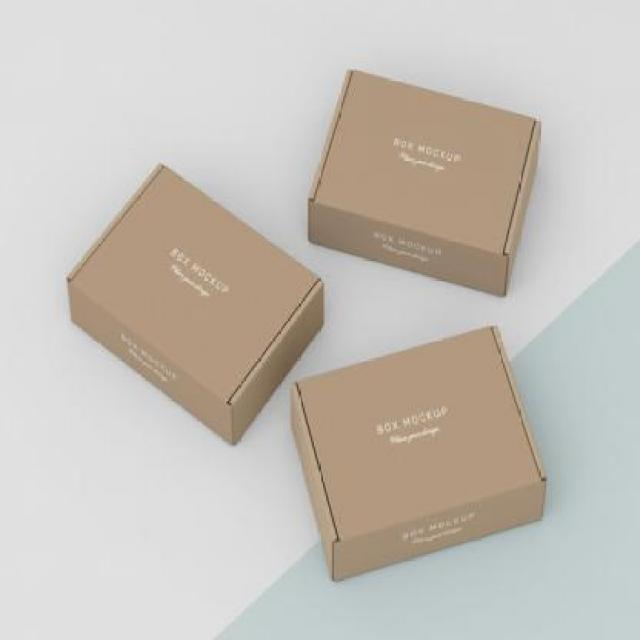box: (65, 165, 322, 447), (293, 319, 545, 581), (312, 66, 543, 294)
